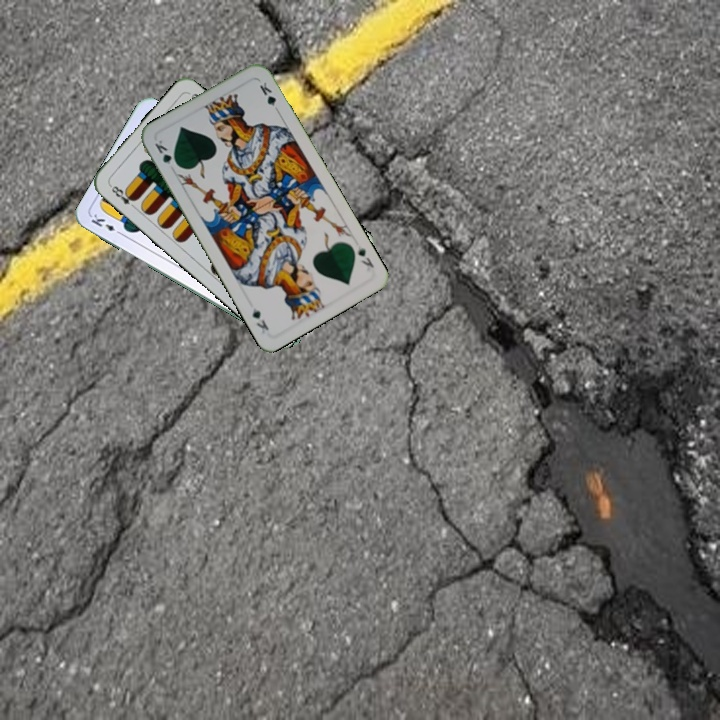E8: (106, 181, 139, 212)
EK: (87, 210, 125, 238)
GK: (150, 136, 181, 170), (354, 241, 376, 270)
